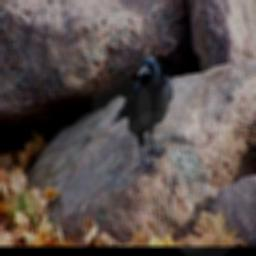Crow: (104, 49, 173, 175)
